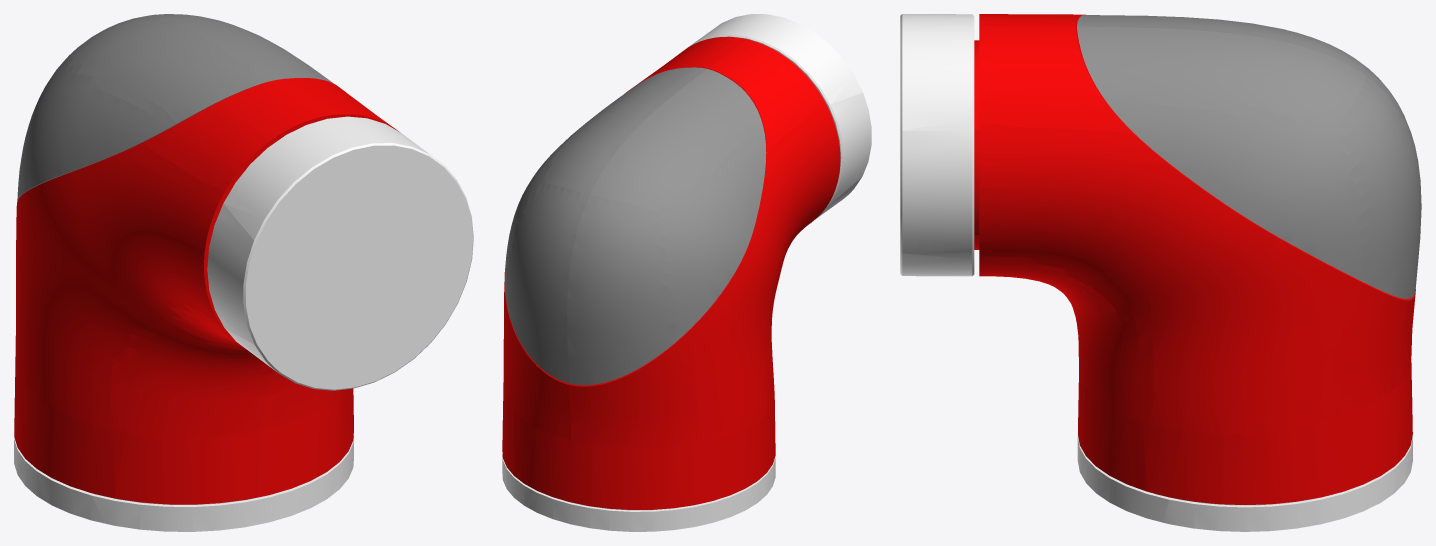
3 renders of one model, left to right at view 1: azimuth 30°, elevation 25°; view 2: azimuth 150°, elevation 25°; view 3: azimuth 270°, elevation 25°, orthographic. The views are drawn at different scales.
Visible parts, largest first — view 1: _3DGeom_23, _3DGeom_22, _3DGeom_24; view 2: _3DGeom_23, _3DGeom_24, _3DGeom_22; view 3: _3DGeom_23, _3DGeom_24, _3DGeom_22.
Boxes of the visible parts, x1=… form: _3DGeom_23: x1=14, y1=78, x2=398, y2=504; _3DGeom_22: x1=14, y1=116, x2=473, y2=531; _3DGeom_24: x1=17, y1=14, x2=333, y2=200; _3DGeom_23: x1=502, y1=36, x2=840, y2=509; _3DGeom_24: x1=504, y1=67, x2=766, y2=385; _3DGeom_22: x1=502, y1=14, x2=871, y2=531; _3DGeom_23: x1=974, y1=14, x2=1415, y2=505; _3DGeom_24: x1=1077, y1=15, x2=1421, y2=298; _3DGeom_22: x1=900, y1=14, x2=1412, y2=531.
Size of the model in its own units: 0.136 by 0.2115 by 0.1958.
